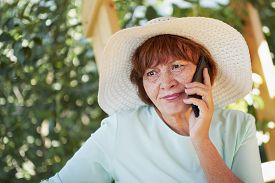phone: (183, 57, 215, 117)
talk: (145, 53, 222, 132)
